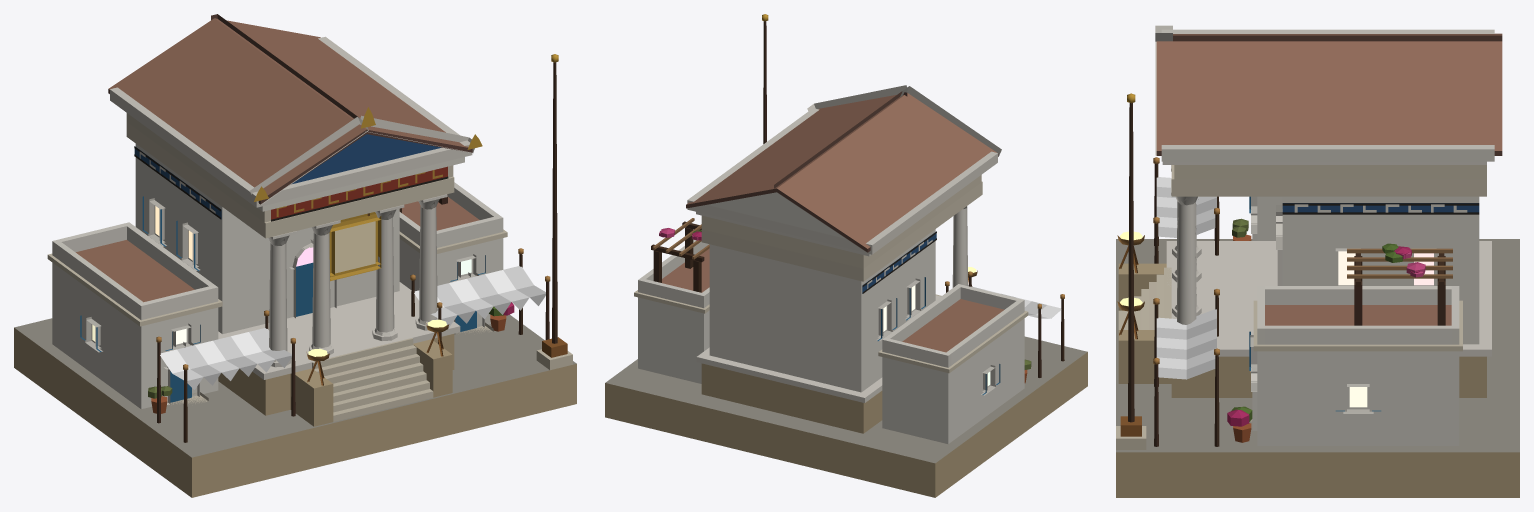
Rendered from harbour-office-base.glb.
3 views of the same model, side by side, from view 1: azimuth 30°, elevation 25°; view 2: azimuth 150°, elevation 25°; view 3: azimuth 270°, elevation 25° (orthographic). The views are drawn at different scales.
Visible parts, largest first — view 1: office_body, awning, crest_panel, office_body_windows; view 2: office_body; view 3: office_body, awning, office_body_windows.
Part boxes in pixels (<box>): office_body: <box>14,14,576,497</box>; awning: <box>160,266,545,389</box>; crest_panel: <box>335,221,375,273</box>; office_body_windows: <box>92,206,471,344</box>; office_body: <box>605,14,1087,497</box>; office_body: <box>1116,25,1519,497</box>; awning: <box>1156,177,1216,379</box>; office_body_windows: <box>1338,251,1433,407</box>.
Bounding box in the file's own units: 20 × 17.32 × 16.
